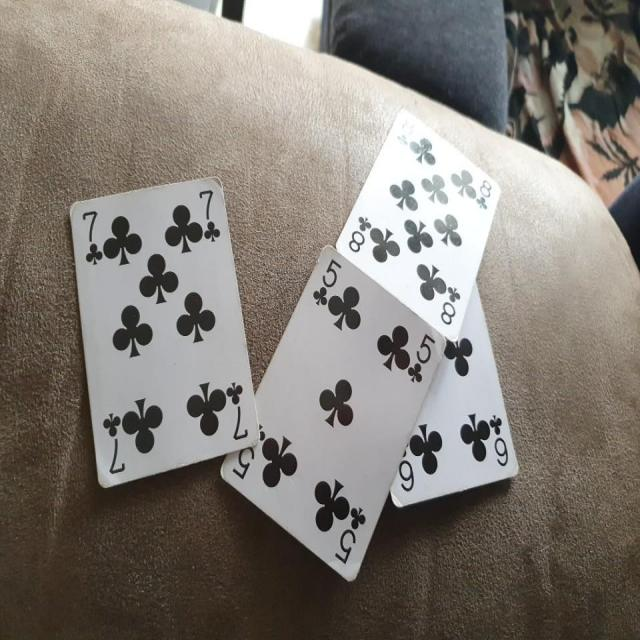5 Trefoils: (218, 242, 447, 580)
6 Trefoils: (390, 281, 519, 510)
7 Trefoils: (68, 175, 261, 492)
8 Trefoils: (336, 109, 504, 343)
